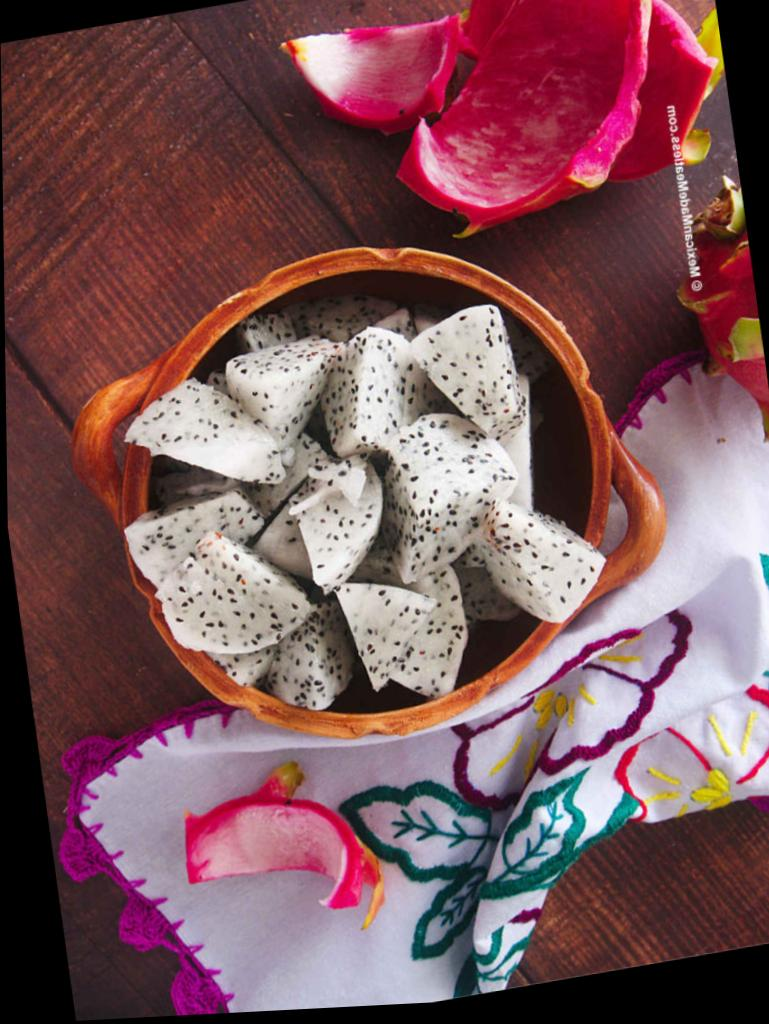organic: (370, 0, 685, 247), (173, 745, 391, 960), (377, 397, 531, 588), (276, 7, 475, 154), (145, 513, 320, 670), (116, 363, 287, 512), (474, 483, 612, 636), (404, 297, 529, 457), (307, 316, 434, 460), (282, 447, 394, 601), (222, 332, 355, 460), (332, 565, 449, 697), (256, 598, 362, 721)
